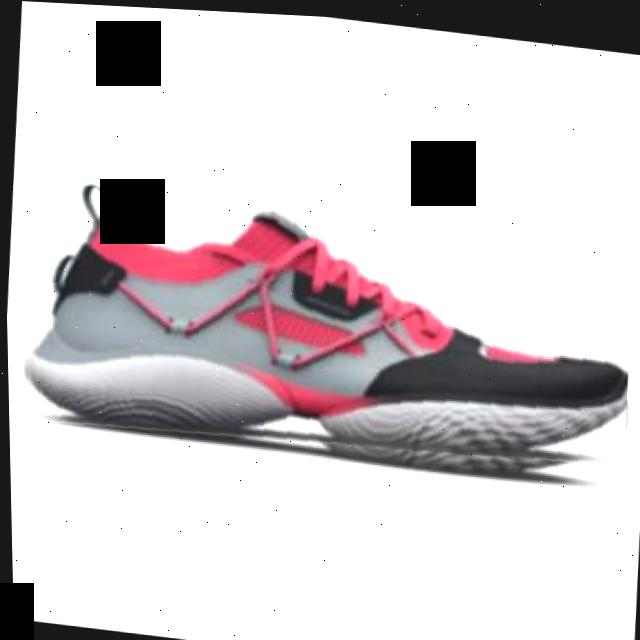shoe: (17, 178, 637, 486)
